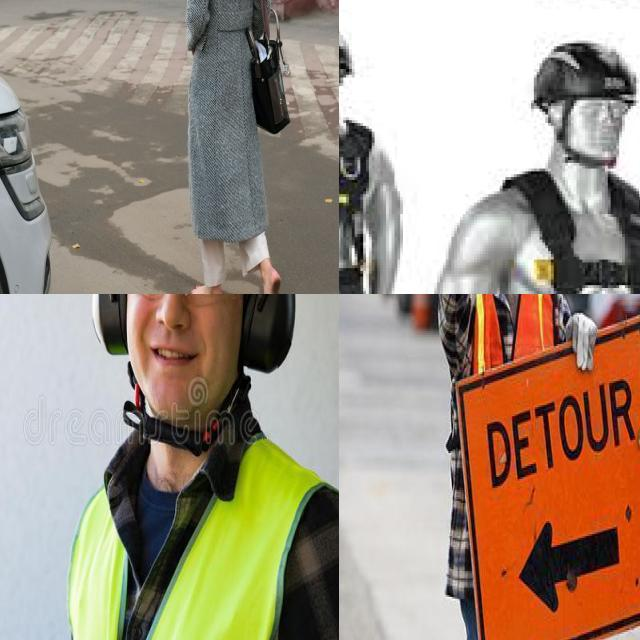Barefoots: (261, 270, 281, 294), (191, 284, 223, 294)
Harness: (479, 171, 640, 294), (339, 116, 384, 294)
face_nomask: (118, 294, 255, 406)
glasses: (121, 294, 248, 310)
hand_glove: (567, 294, 600, 378)
person: (60, 294, 339, 640), (436, 294, 581, 640)
vest: (63, 427, 324, 640), (471, 294, 553, 493)
